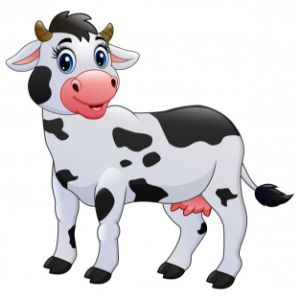cow: (4, 9, 295, 289)
